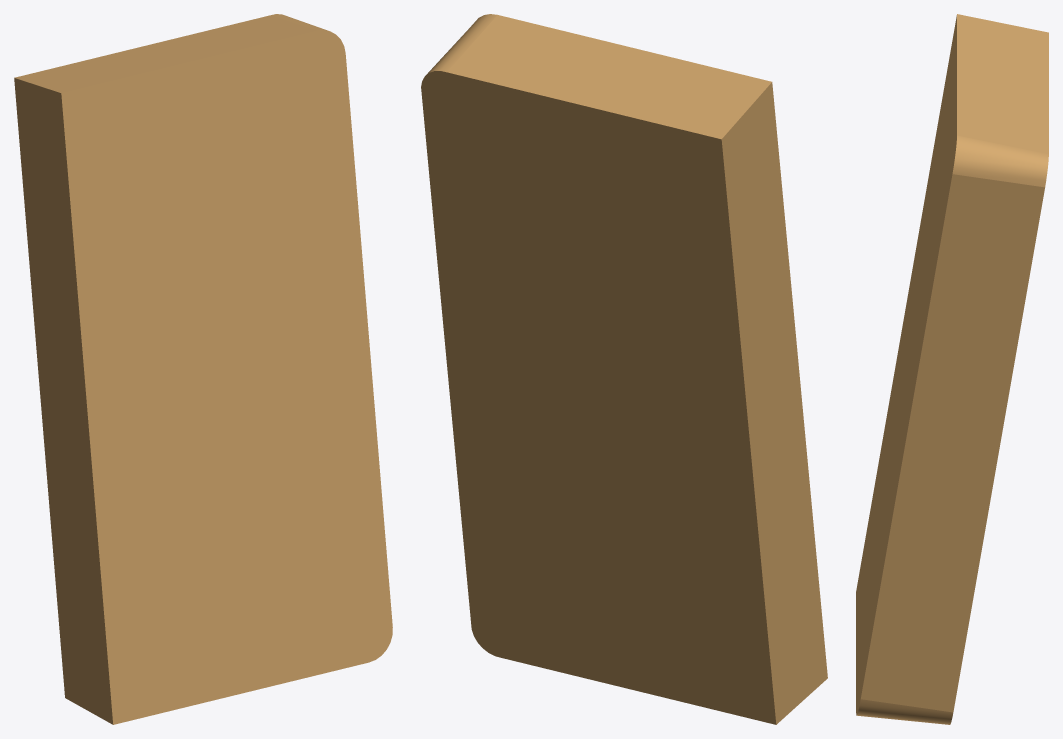
The model's file is original-2.obj.
3 views of the same model, side by side, from view 1: azimuth 30°, elevation 25°; view 2: azimuth 150°, elevation 25°; view 3: azimuth 270°, elevation 25° (orthographic). The views are drawn at different scales.
Parts seen in each view (by area): view 1: Button1/Button/mesh7/mesh7-geometry#mesh7-geometry; view 2: Button1/Button/mesh7/mesh7-geometry#mesh7-geometry; view 3: Button1/Button/mesh7/mesh7-geometry#mesh7-geometry.
Part boxes in pixels (x1,y1,x2,y2): Button1/Button/mesh7/mesh7-geometry#mesh7-geometry: (14,14,392,724); Button1/Button/mesh7/mesh7-geometry#mesh7-geometry: (421,14,827,724); Button1/Button/mesh7/mesh7-geometry#mesh7-geometry: (856,14,1048,724).
Size of the model in its own units: 0.5305 by 1.08 by 0.3228.
